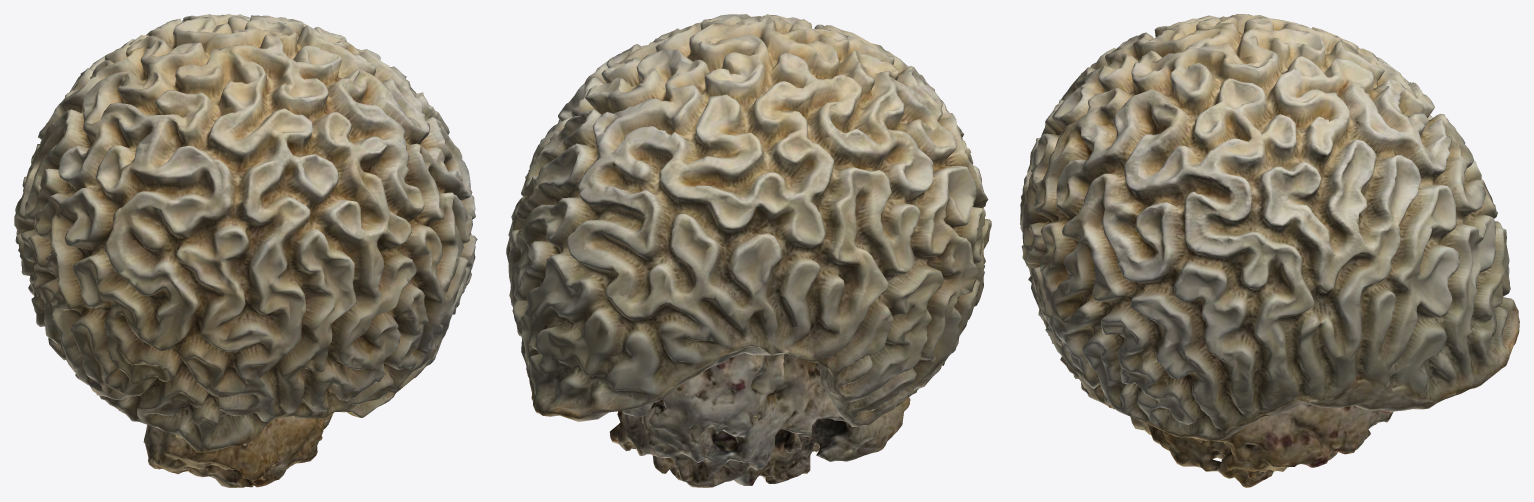
The model's file is smithsonian-diploria.glb.
3 renders of one model, left to right at view 1: azimuth 30°, elevation 25°; view 2: azimuth 150°, elevation 25°; view 3: azimuth 270°, elevation 25°, orthographic. The views are drawn at different scales.
Size of the model in its own units: 0.1001 by 0.1004 by 0.1077.
1 material, 1 textured.
